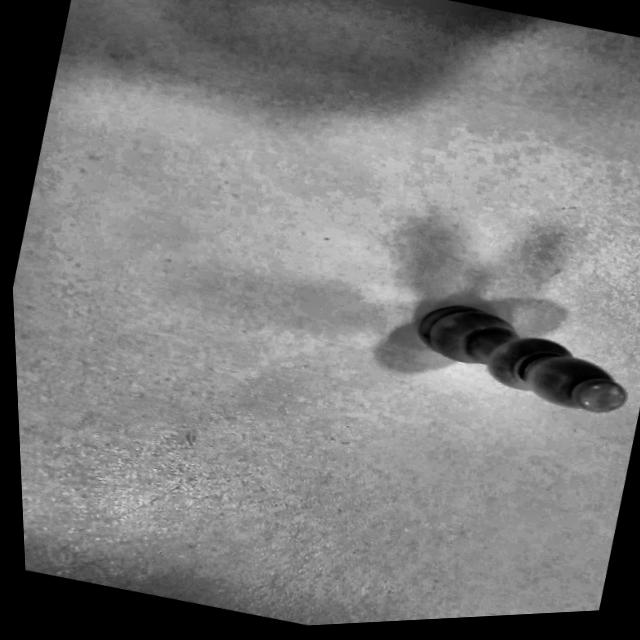white-bishop: (381, 301, 625, 411)
